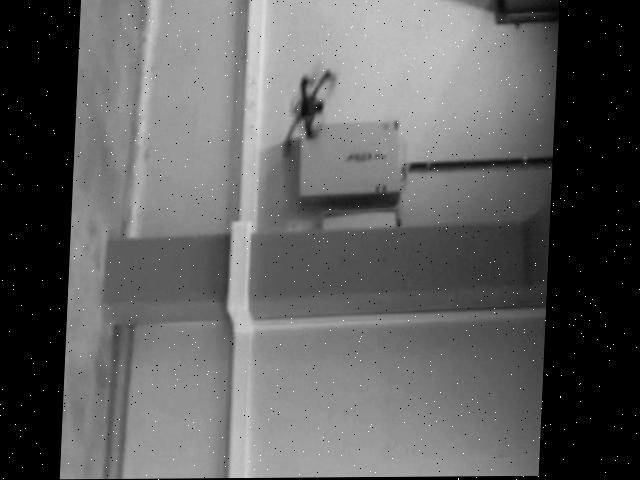drone: (284, 70, 337, 160)
